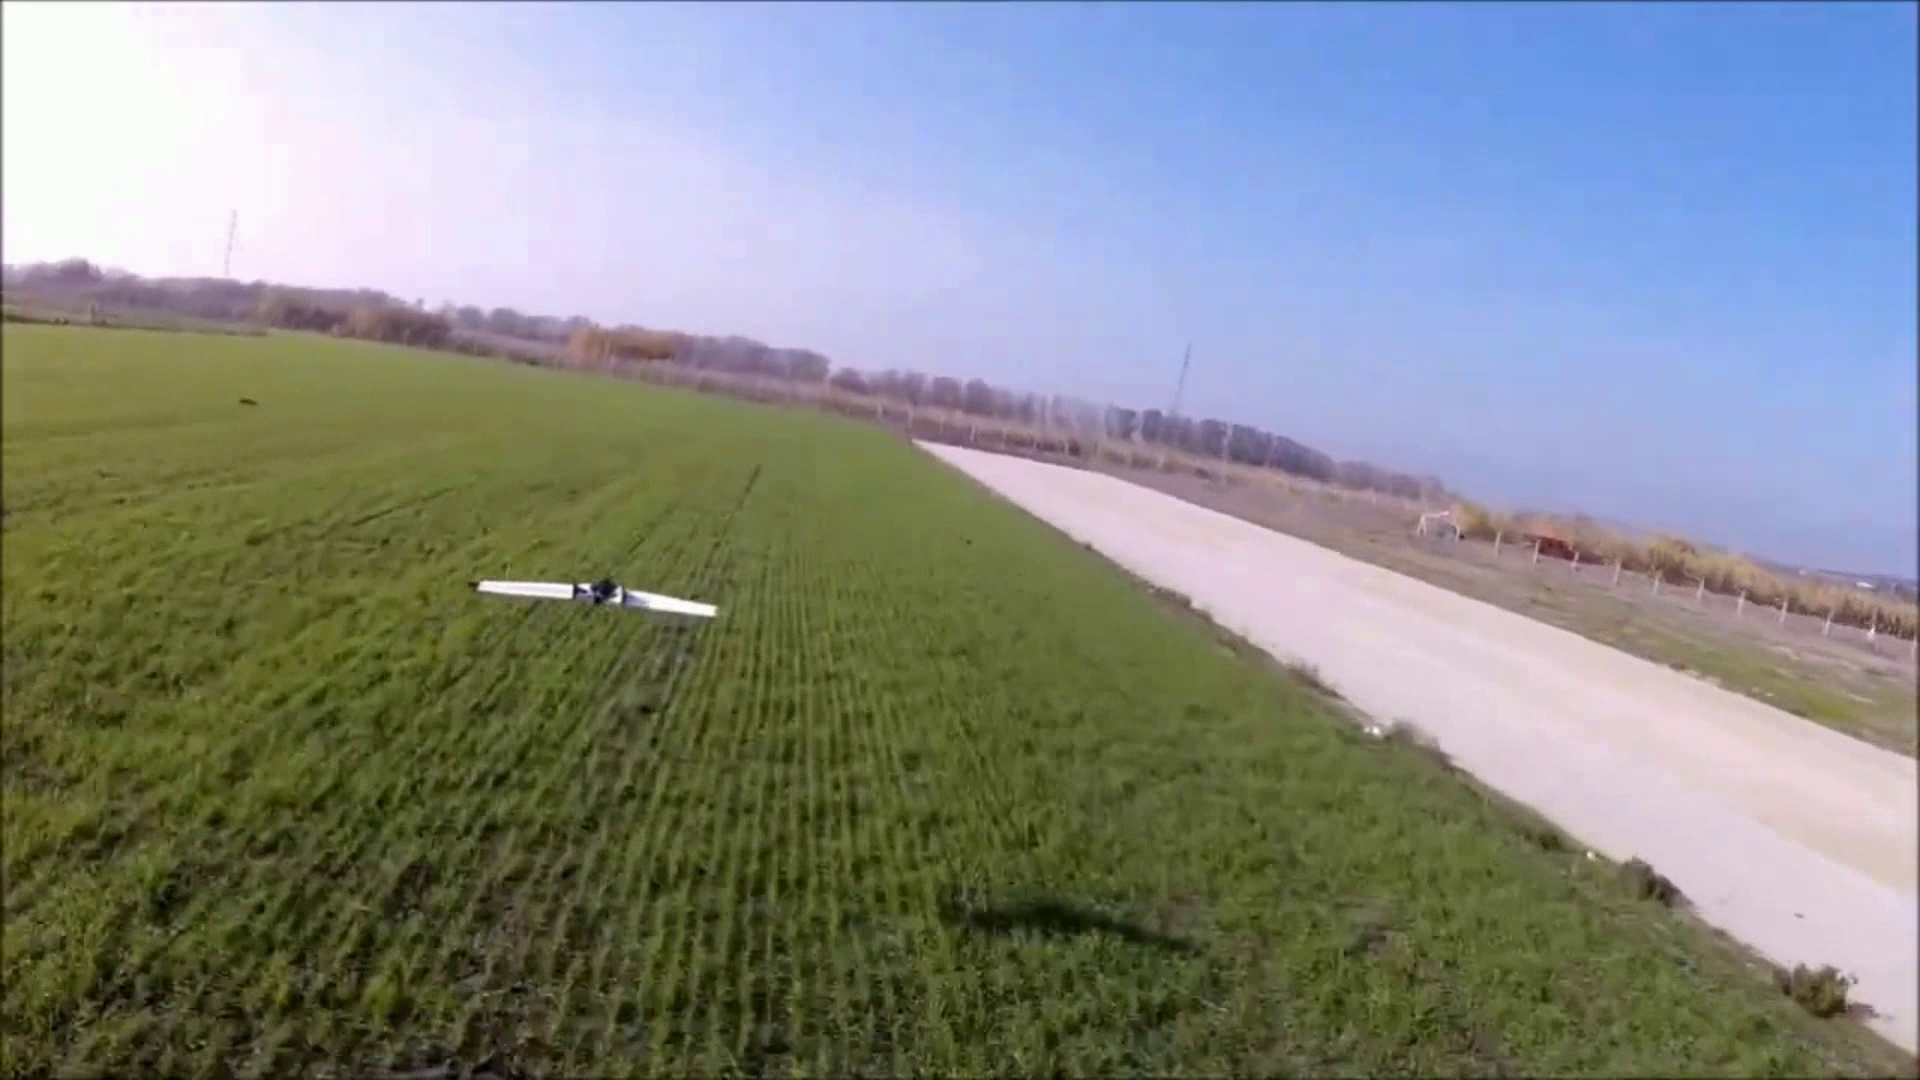airplane: (477, 576, 720, 624)
